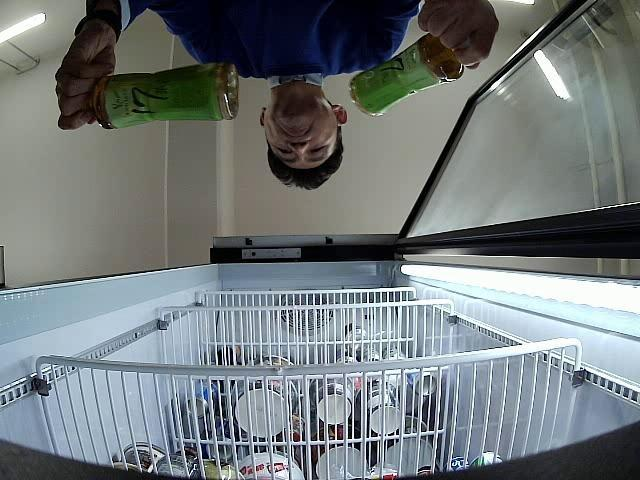19_17cha: (348, 34, 472, 118), (91, 62, 241, 131)
